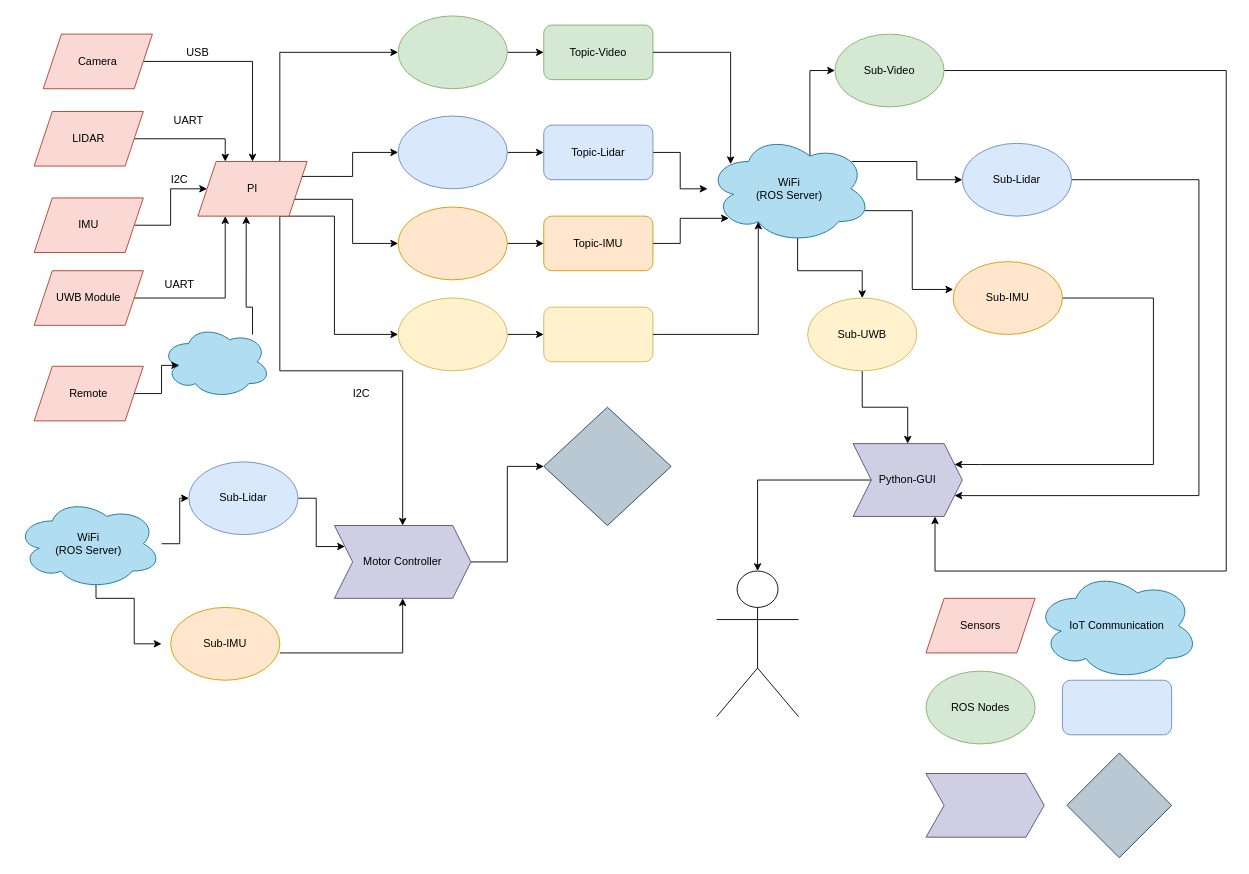
This 1249x874 diagram has some shape labels left out. Each missing label, with the centre of its shape:
Bluetooth: [216,361]
Legs: [607,466]
Physical Component: [1119,805]
Program: [984,805]
Pub-IMU: [452,243]
Pub-Lidar: [452,152]
Pub-UWB: [452,334]
Pub-Video: [452,52]
ROS Topics: [1117,707]
Topic-UWB: [598,334]
User: [757,643]
